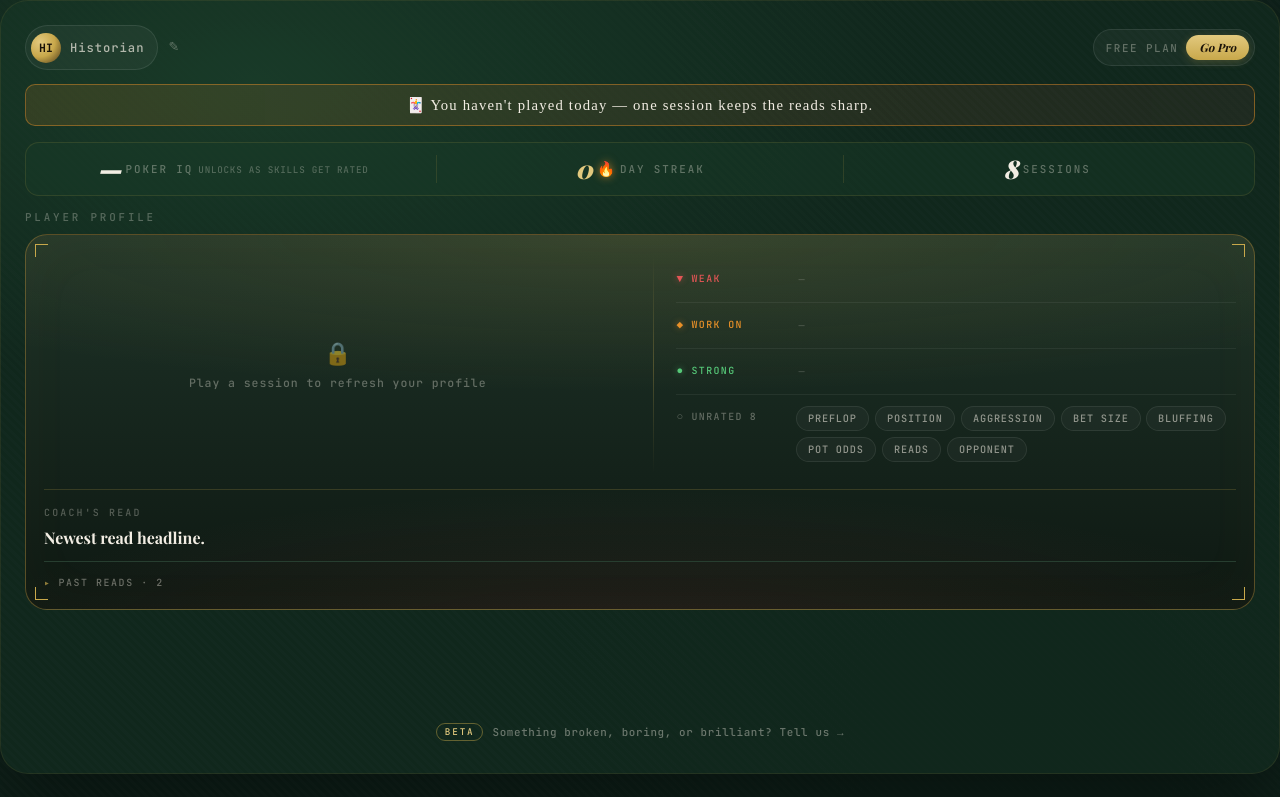
expanding the notebook lists prior reads only, excluding the newest
This screenshot has width=1280, height=797.
Click the button "▸ Past reads · 2" at [104, 582], box 44,574 -> 164,591
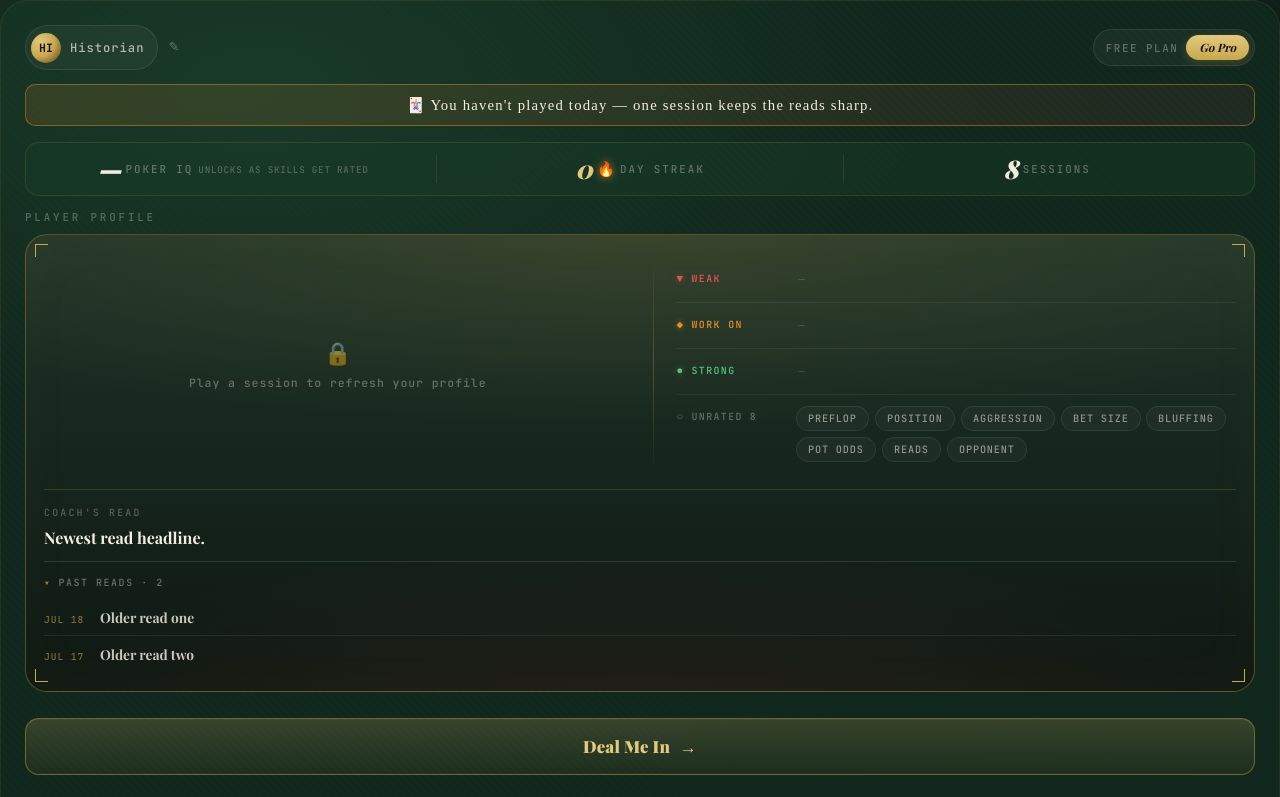
Expected: the list with class "db-notebook-list" shows "Jul 18", 44,599 -> 1236,635
Expected: the list with class "db-notebook-list" shows "Older read one", 44,599 -> 1236,635
Expected: the list with class "db-notebook-list" shows "Older read two", 44,636 -> 1236,673
